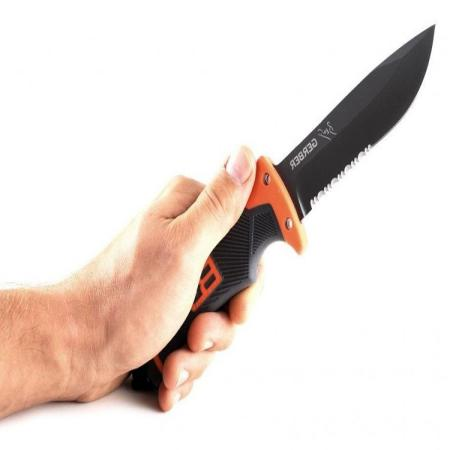long weapon: (201, 12, 442, 334)
